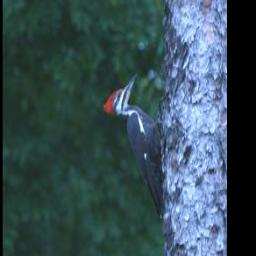Woodpecker: (104, 68, 167, 224)
